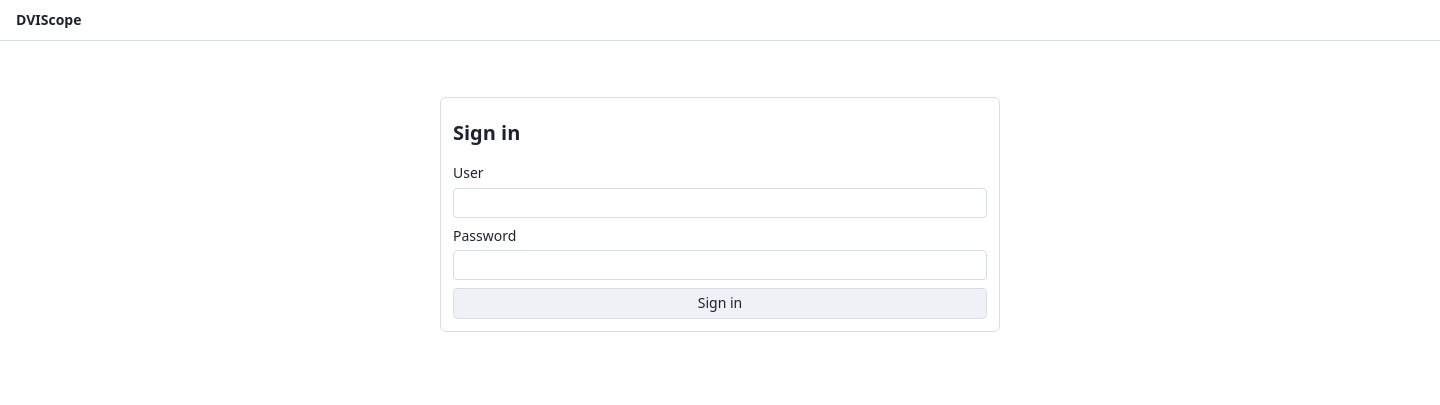
Test: session › shows the server's error code on a failed login
Step 1. Type "ann" into the field labelled "User" → (720, 203), box [453,188,987,218]
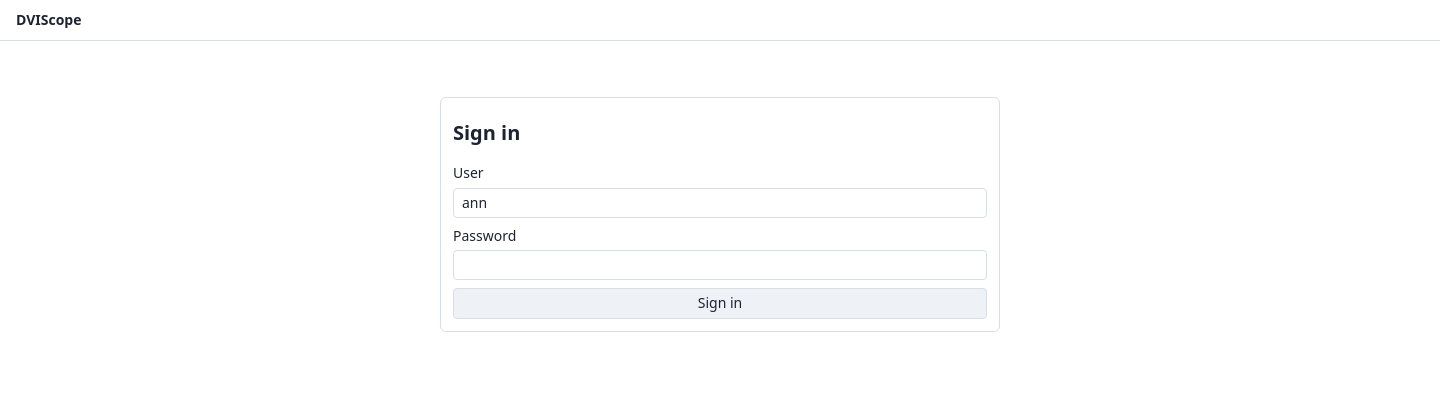
Step 2. Type "bad" into the password field labelled "Password" → (720, 265), box [453,250,987,280]
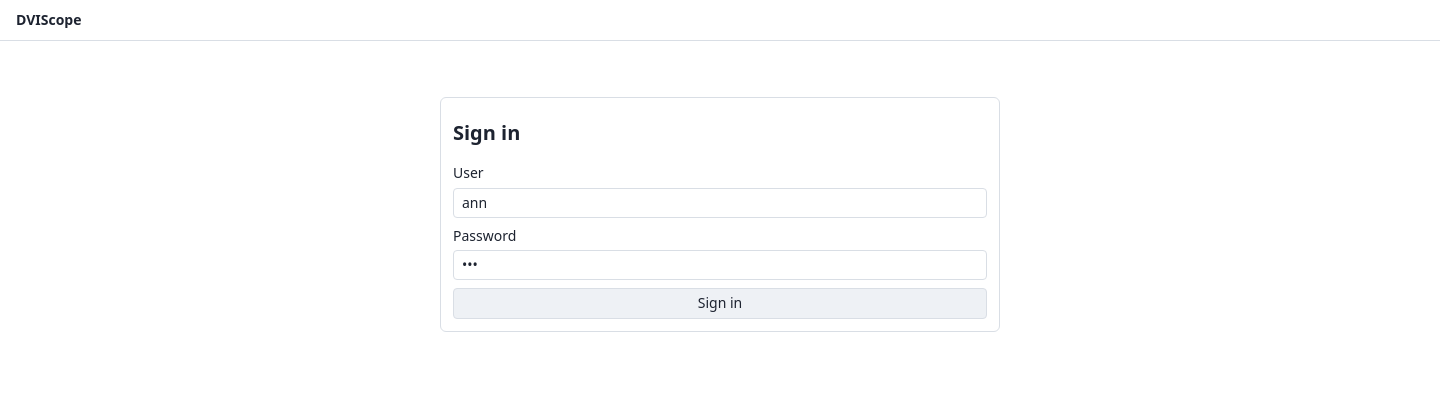
Step 3. Click the button "Sign in" → (720, 304), box [453,288,987,319]
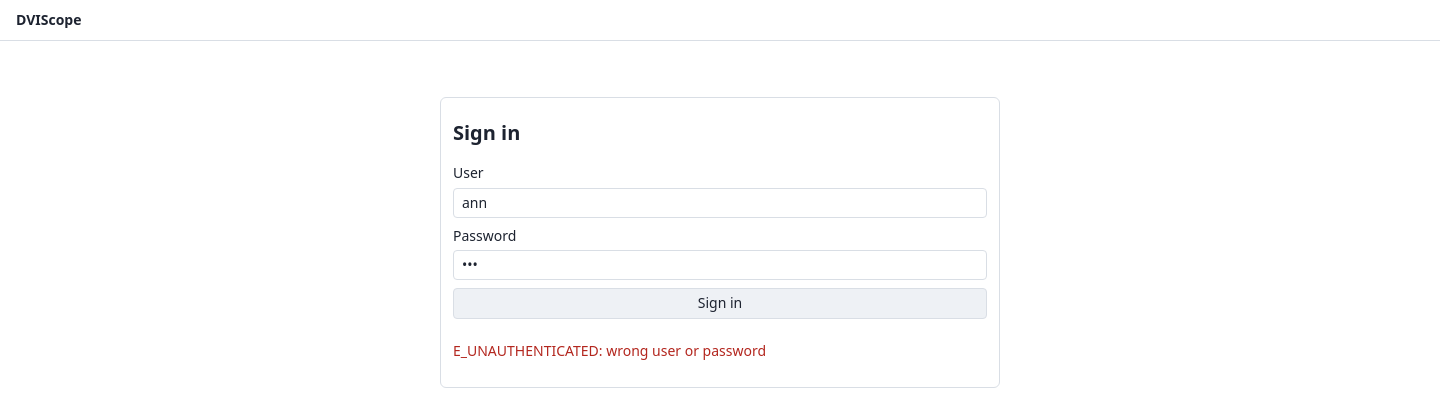
Expected: the message shows "E_UNAUTHENTICATED", [453,341,766,360]
